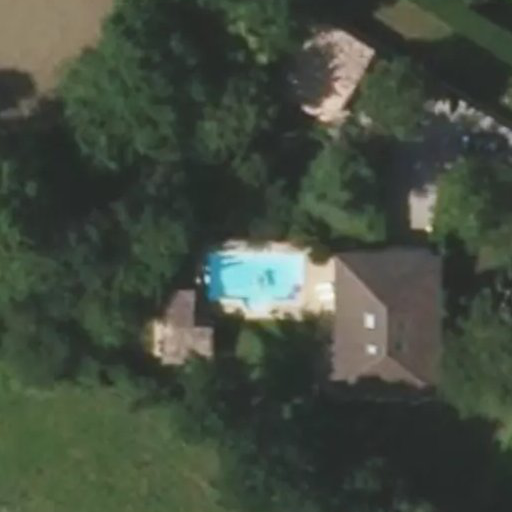pool: (206, 217, 305, 266)
